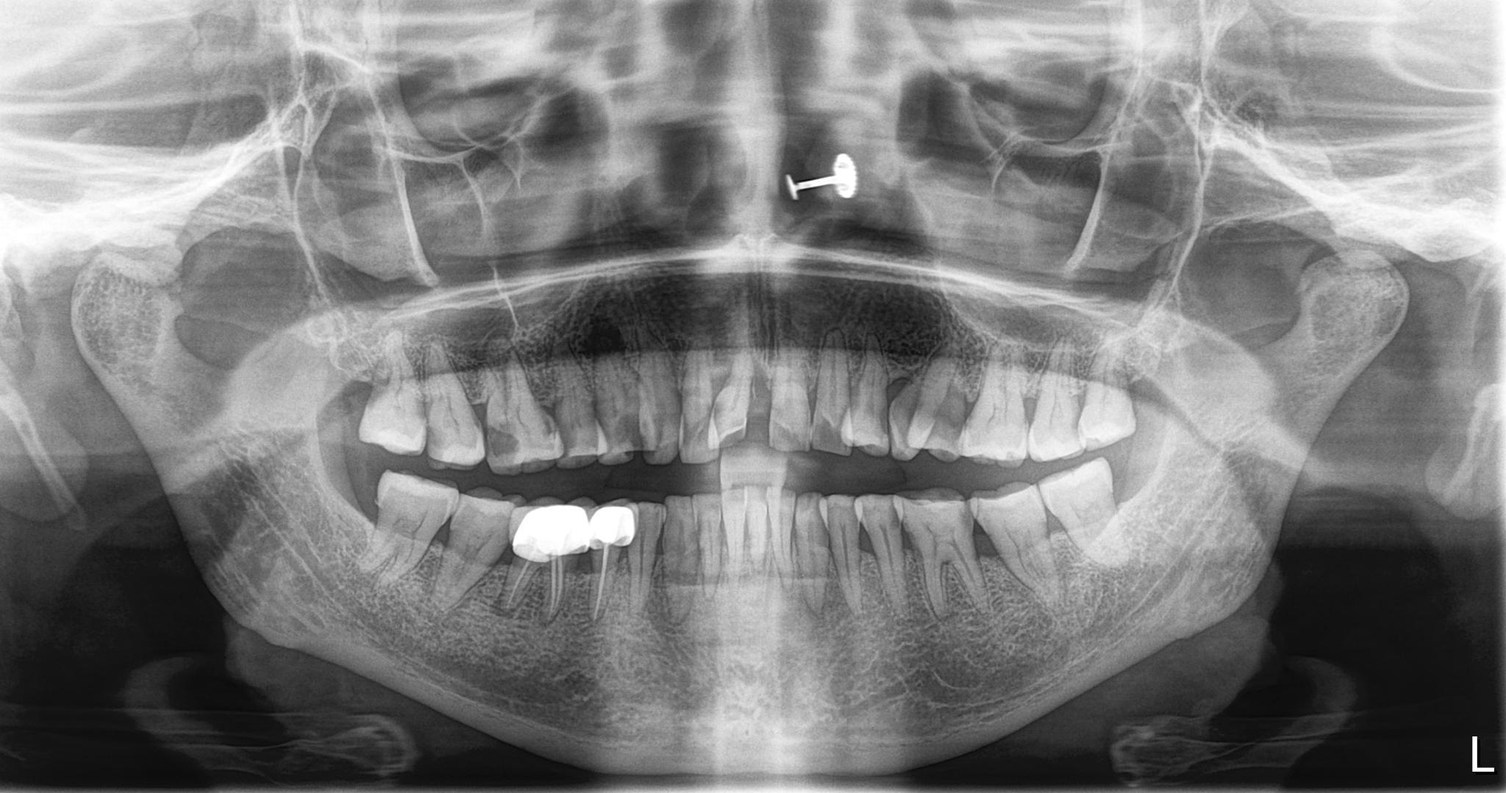Dental Caries: (487, 432, 521, 458)
Endodontically Treated Tooth: (509, 509, 639, 623)
